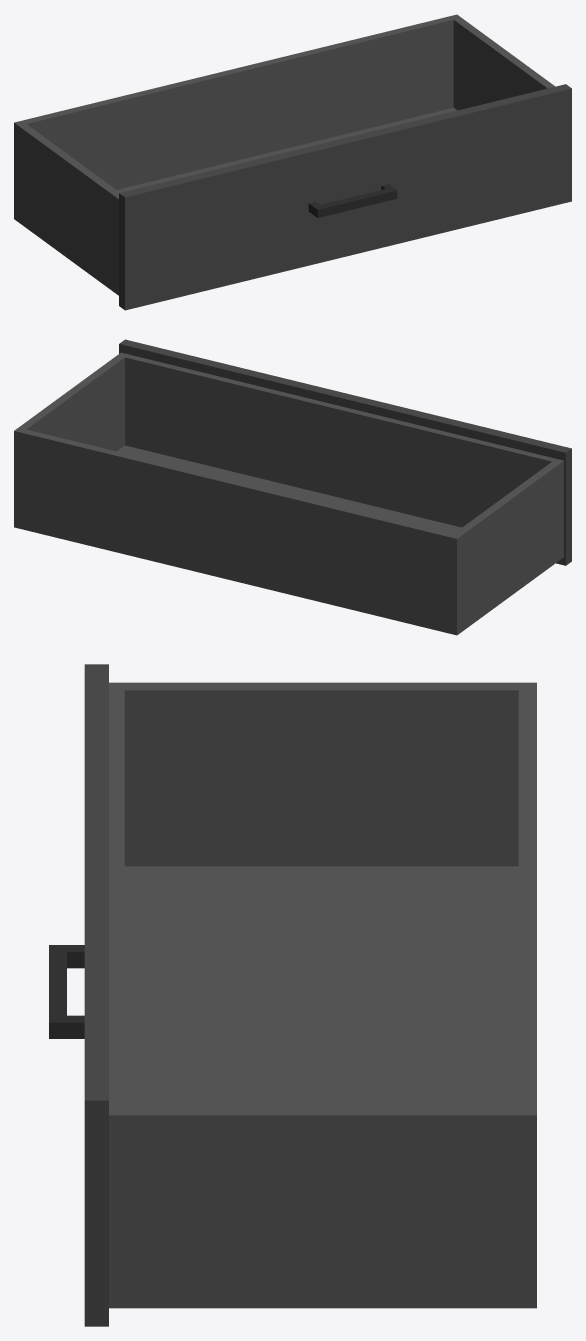
Rendered from Dresser1_C2_02.fbx.
3 views of the same model, one above another, from view 1: azimuth 30°, elevation 25°; view 2: azimuth 150°, elevation 25°; view 3: azimuth 270°, elevation 25° (orthographic). The views are drawn at different scales.
Parts seen in each view (by area): view 1: Dresser1_C2_02; view 2: Dresser1_C2_02; view 3: Dresser1_C2_02.
Part boxes in pixels (left/top/right/bottom): Dresser1_C2_02: left=14, top=14, right=571, bottom=310; Dresser1_C2_02: left=14, top=339, right=571, bottom=635; Dresser1_C2_02: left=49, top=664, right=536, bottom=1326.
Bounding box in the file's own units: 85.7 × 20.7 × 40.51.
